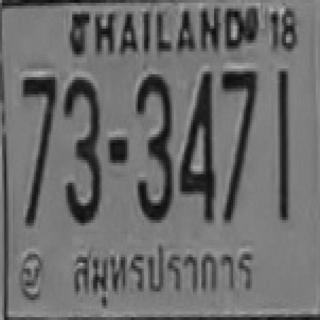N03: (133, 72, 172, 220), (61, 74, 100, 220)
N04: (178, 68, 214, 220)
N07: (21, 74, 55, 203), (220, 69, 256, 171), (21, 74, 55, 174), (220, 67, 256, 161), (21, 73, 55, 162), (220, 69, 256, 151)
P57: (64, 237, 257, 308)
